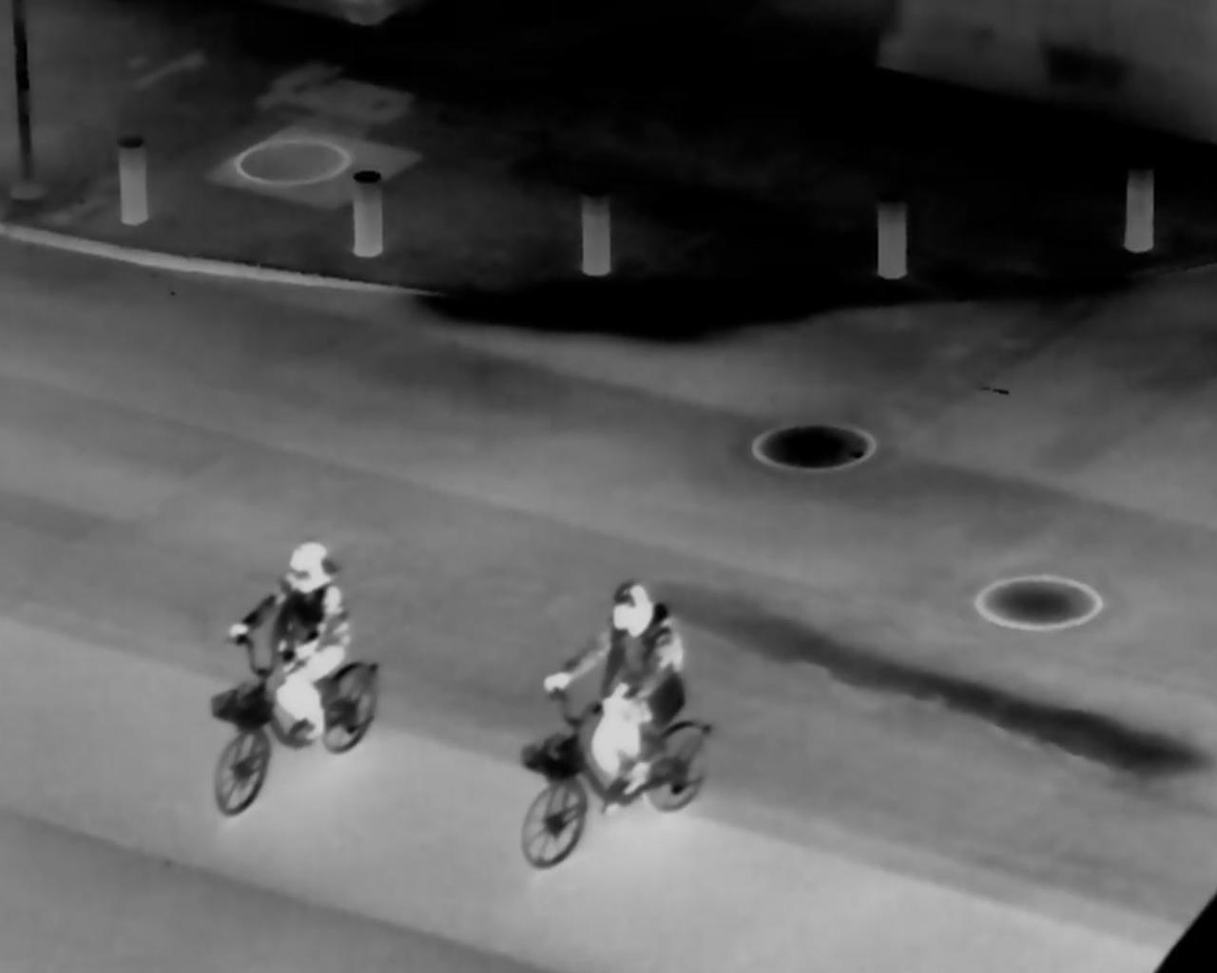person: (543, 579, 686, 800), (227, 532, 351, 777)
